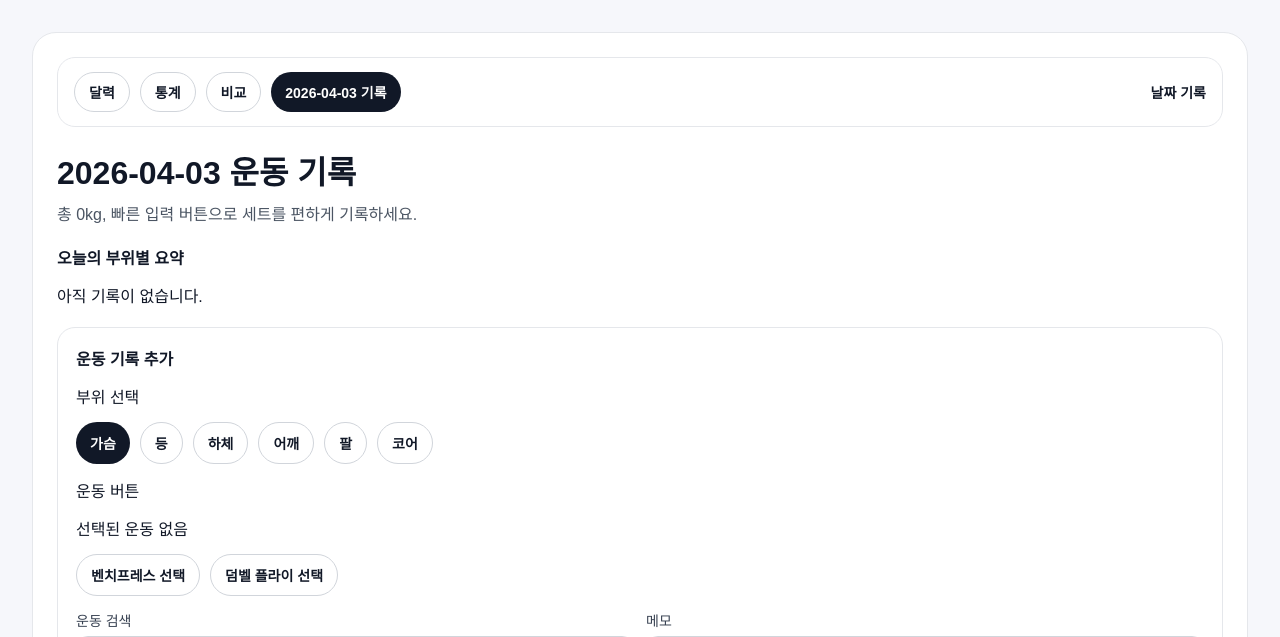
Test case: DailyRecordPanel › 부위를 바꾸면 운동 버튼 목록도 바뀌어야 한다
Check: the button "벤치프레스 선택" is shown, box [76,554,200,596]
Check: the button "바벨 로우 선택" is not shown
Click the button "등": [161, 443] box [140,422,183,464]
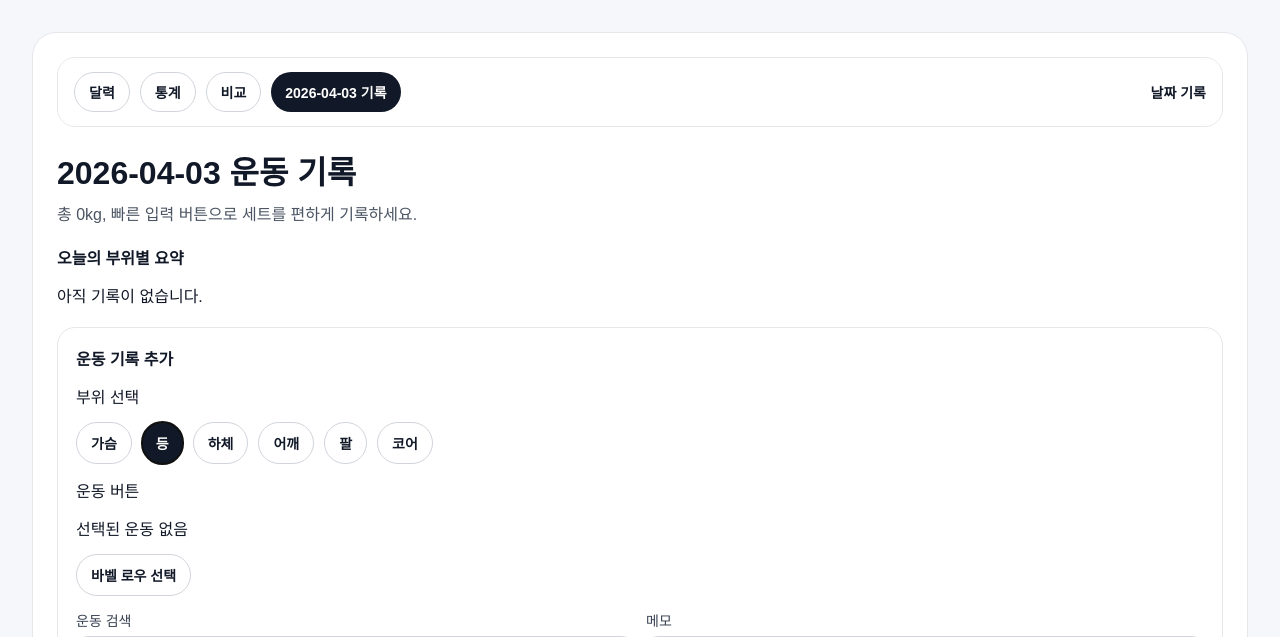
Check: the button "바벨 로우 선택" is shown, box [76,554,191,596]
Check: the button "벤치프레스 선택" is gone
